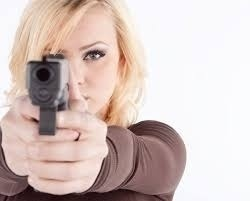pistol: (24, 53, 80, 137)
